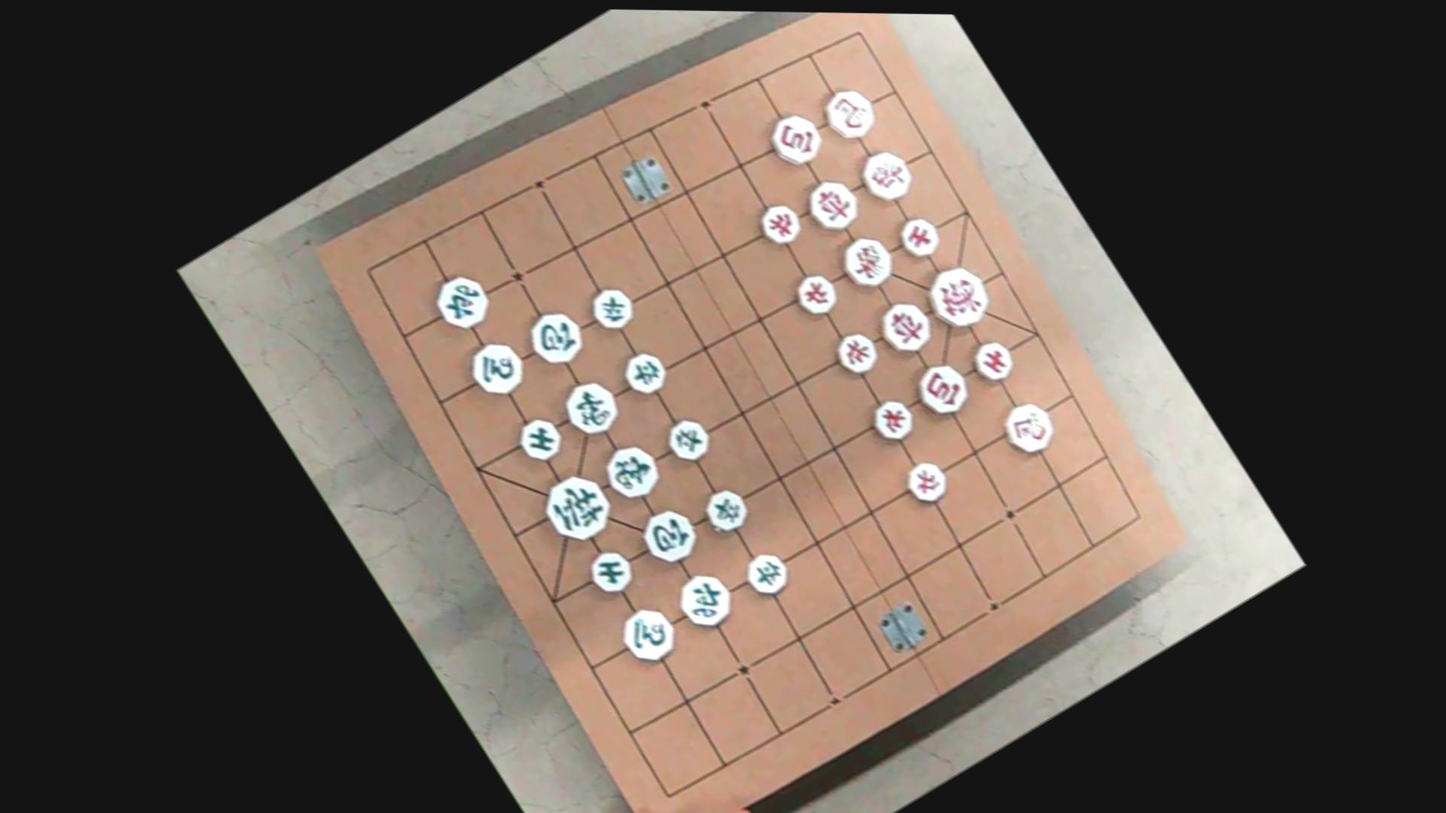cha_green: (670, 567, 741, 636), (427, 268, 498, 336)
cha_red: (871, 294, 939, 361), (799, 172, 866, 236)
jol_green: (616, 346, 673, 400), (698, 484, 755, 537), (660, 413, 715, 467), (584, 281, 640, 334), (740, 548, 796, 601)
jol_red: (865, 394, 921, 447), (752, 197, 807, 250), (900, 456, 955, 509), (789, 268, 844, 320), (830, 327, 885, 379)
ma_green: (462, 336, 532, 402), (615, 602, 684, 668)
ma_red: (816, 81, 883, 146), (996, 396, 1063, 461)
po_green: (633, 502, 706, 571), (520, 303, 590, 371)
po_red: (908, 358, 977, 423), (762, 106, 829, 172)
sa_green: (582, 544, 640, 599), (512, 413, 569, 466)
sa_red: (965, 334, 1020, 388), (892, 210, 946, 262)
sang_green: (596, 437, 668, 506), (556, 374, 627, 442)
sang_red: (833, 230, 901, 295), (853, 142, 919, 207)
wang_green: (534, 466, 621, 550)
wang_red: (918, 257, 999, 335)
